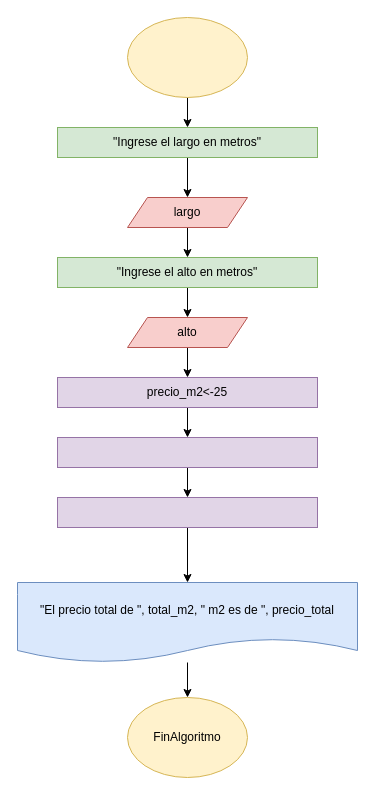
Some shapes in this 375 by 795 pixel diagram are drawn without their labels. The shapes that lost their labels are listed below. From the top down, each one's centre as x and y in pixels, then its label:
(187,57): Algoritmo eje12
(187,452): total_m2<- alto*largo
(187,512): precio_total<- precio_m2*total_m2
